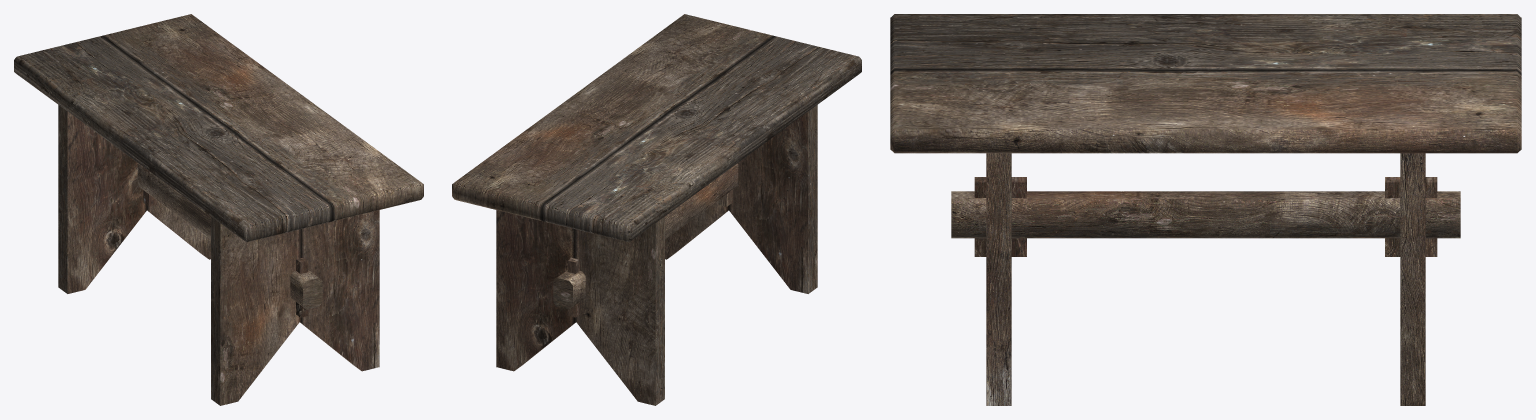
File: stool3.fbx
3 views of the same model, side by side, from view 1: azimuth 30°, elevation 25°; view 2: azimuth 150°, elevation 25°; view 3: azimuth 270°, elevation 25° (orthographic). The views are drawn at different scales.
Parts seen in each view (by area): view 1: polySurface924; view 2: polySurface924; view 3: polySurface924.
Boxes of the visible parts, x1,y1,x2,y2 form: polySurface924: (14, 14, 423, 405); polySurface924: (452, 14, 861, 405); polySurface924: (890, 14, 1521, 405).
Size of the model in its own units: 0.4326 by 0.4768 by 0.9689.
